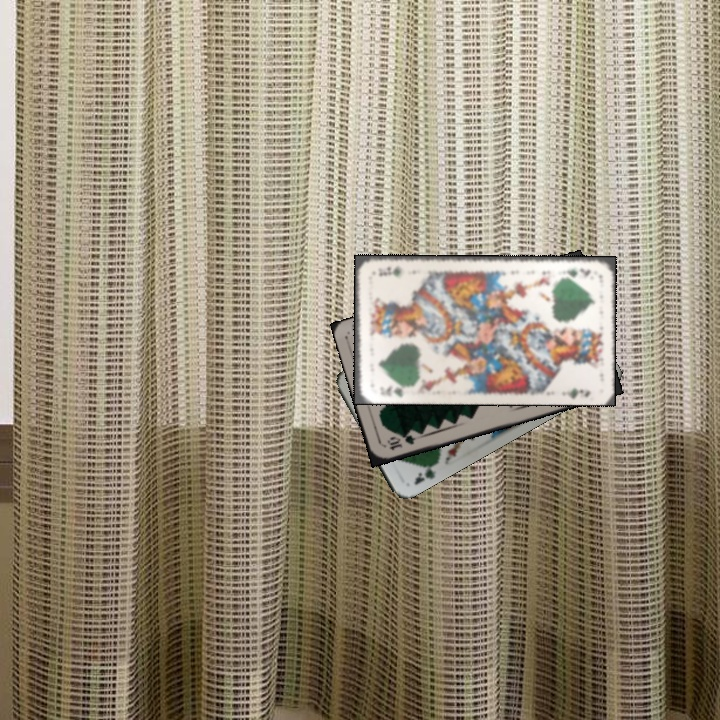G10: (383, 431, 422, 453)
GK: (410, 460, 439, 487), (376, 380, 410, 399), (558, 264, 593, 279)
